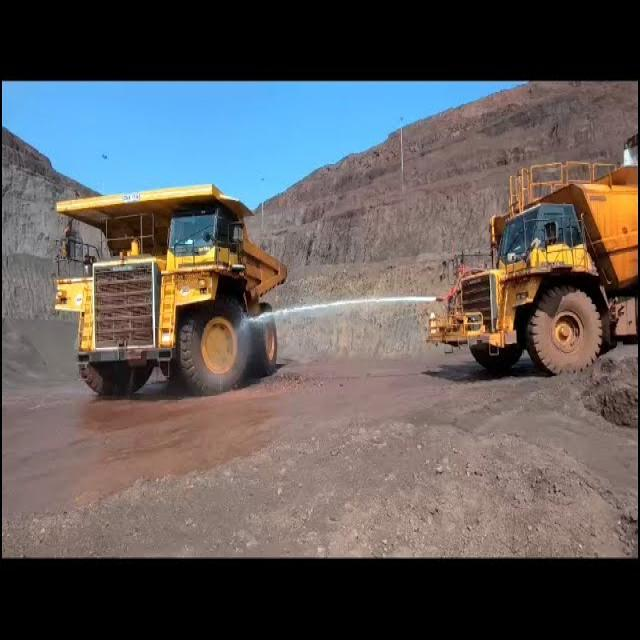dump_truck: (426, 134, 640, 389), (40, 180, 286, 390)
